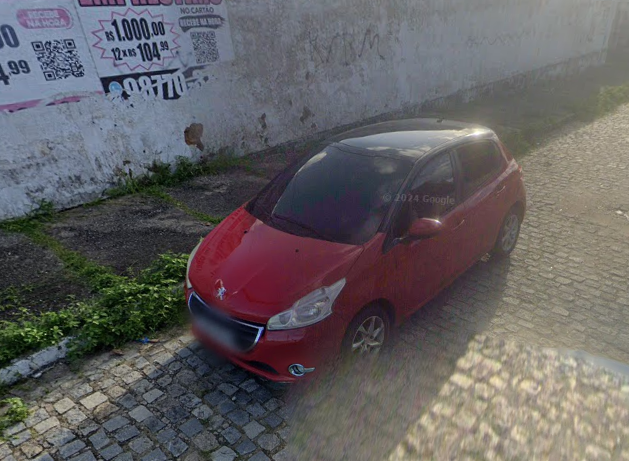car: (183, 114, 531, 389)
